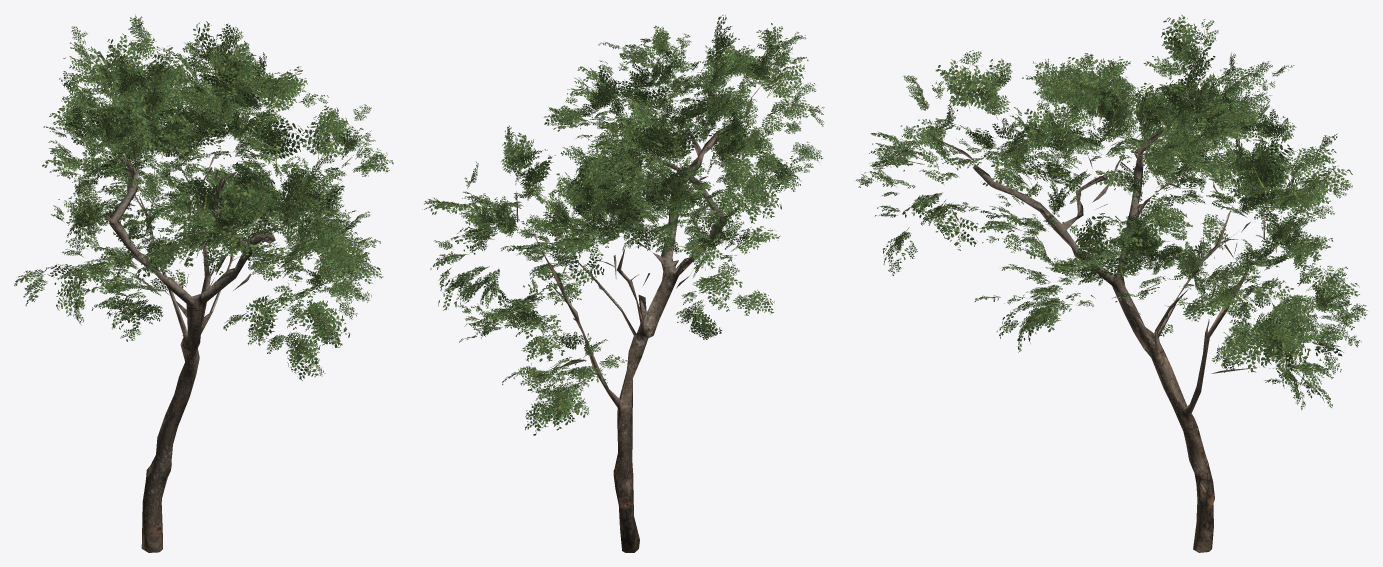
The picture shows the model from 3 angles, left to right: view 1: azimuth 30°, elevation 25°; view 2: azimuth 150°, elevation 25°; view 3: azimuth 270°, elevation 25°; orthographic projection. The views are drawn at different scales.
Parts seen in each view (by area): view 1: tree_small_02_LOD0; view 2: tree_small_02_LOD0; view 3: tree_small_02_LOD0.
Part boxes in pixels (x1=…): tree_small_02_LOD0: x1=14, y1=14, x2=393, y2=552; tree_small_02_LOD0: x1=422, y1=15, x2=824, y2=552; tree_small_02_LOD0: x1=856, y1=14, x2=1367, y2=552.
Size of the model in its own units: 2.92 by 4.56 by 4.3.
Materials: 3 (3 with a texture image).
